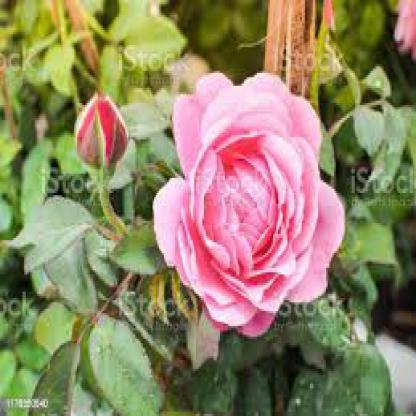Rose-Mawar: (153, 61, 340, 336)
